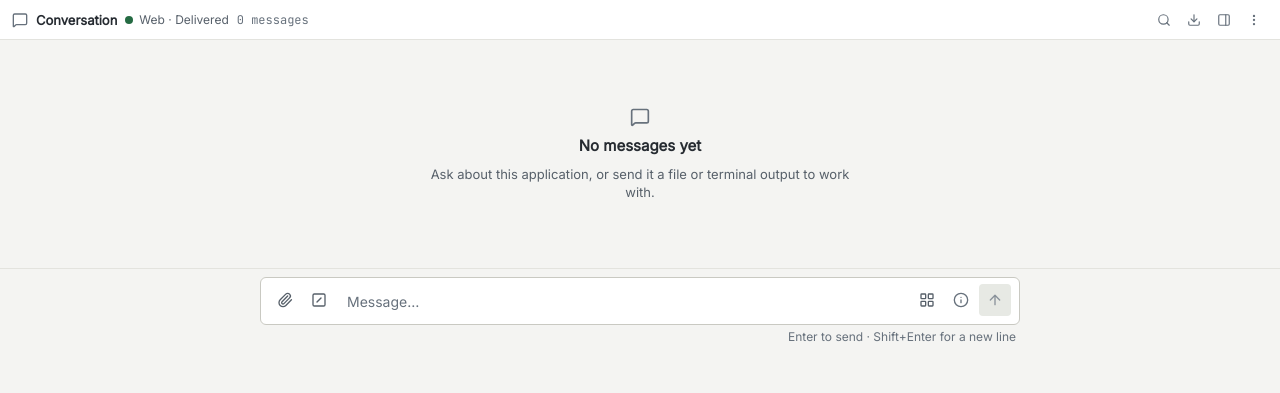
Scenario: composer keyboard contract › never sends during IME composition
The width and height of the screenshot is (1280, 393).
Expected: the element with test id "composer" is shown, [260, 277, 1020, 345]
Type "kanji" into the text box with test id "composer-input" at (623, 302), box [341, 286, 905, 318]
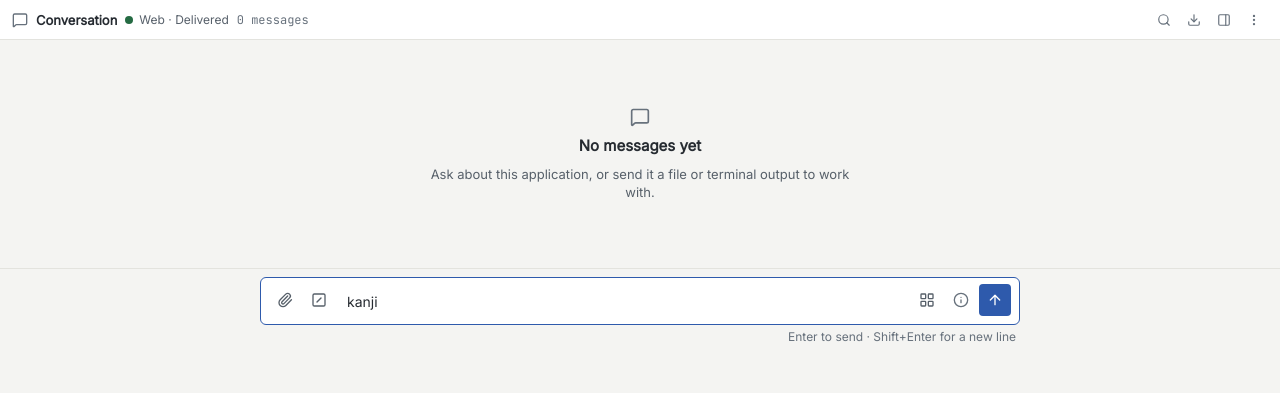
Press Enter
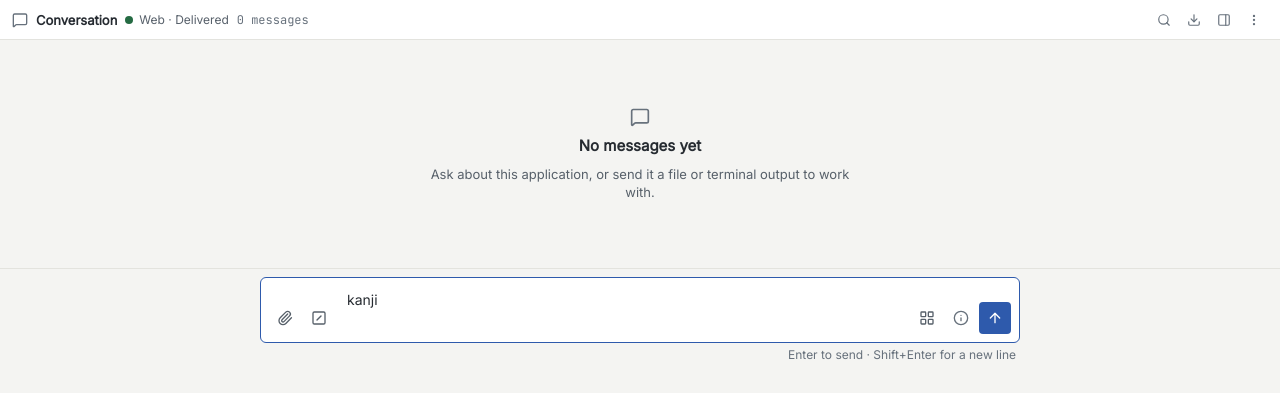
Expected: the heading "No messages yet" is shown, [579, 135, 701, 157]
Press Enter
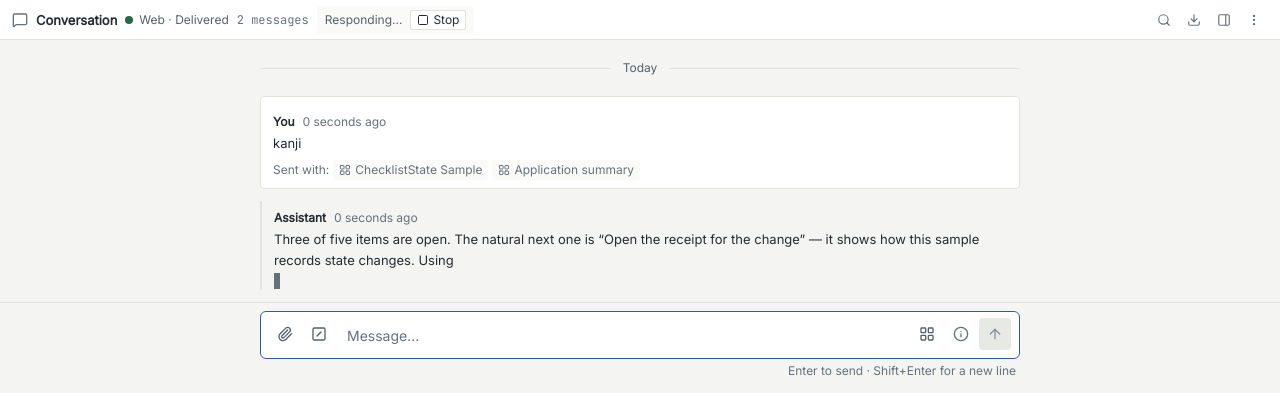
Now the element with test id "message-user" is shown, box [260, 96, 1020, 189]
